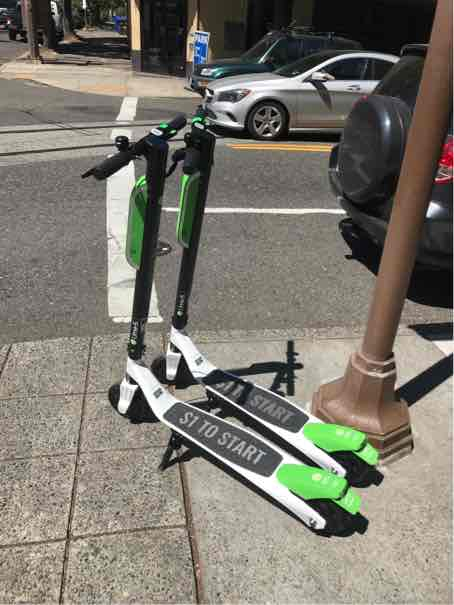scooter: (80, 114, 363, 542), (149, 101, 380, 495)
